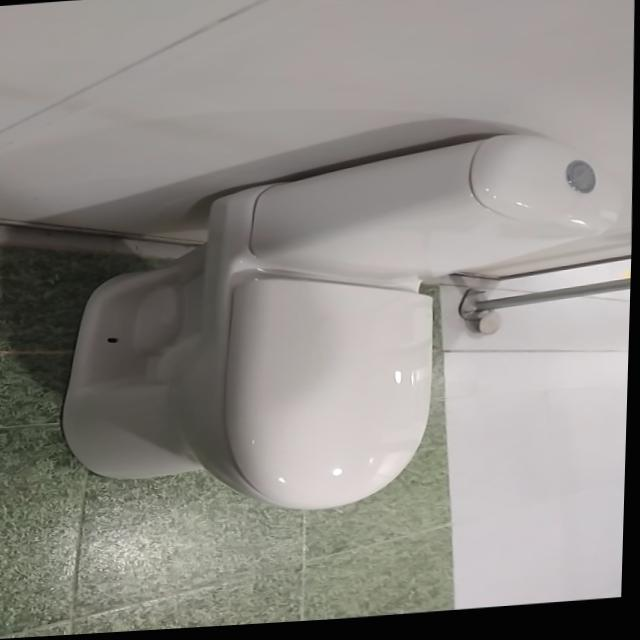toilet: (47, 126, 625, 538)
